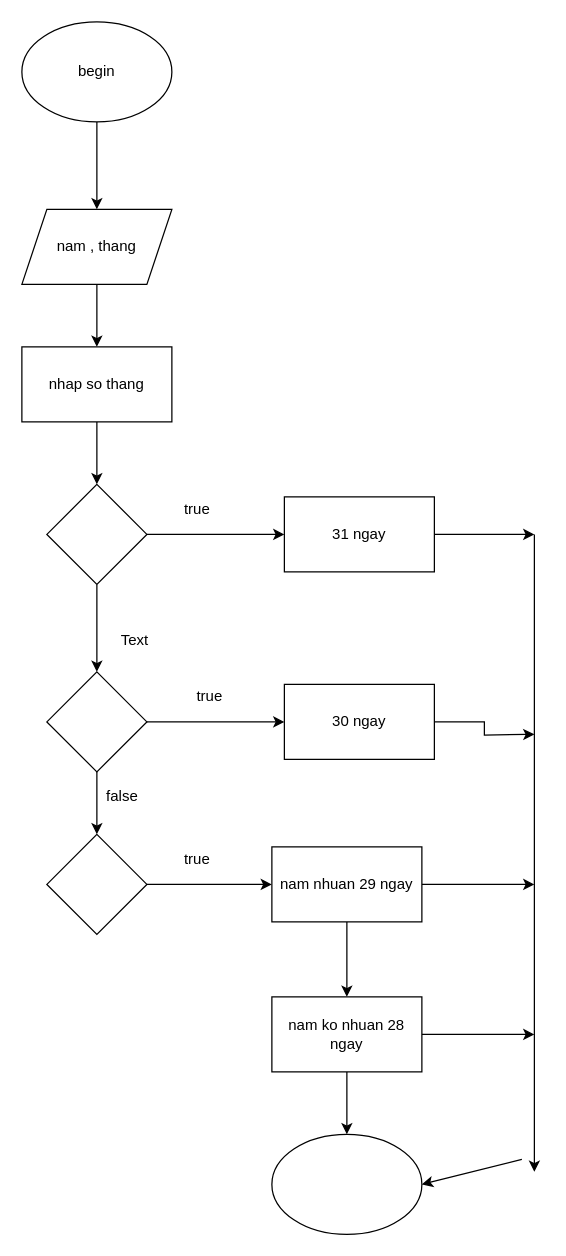
Some shapes in this 566 by 1256 pixel diagram are drawn without their labels. The box of each missing label's shape, as (x1, y1, x2, y2) in pixels:
end: (271, 1133, 422, 1234)
thang 1,3,5,7,8,10,12: (46, 483, 147, 584)
thang 2: (46, 833, 147, 934)
thang 4,6,9,11: (46, 671, 147, 772)
